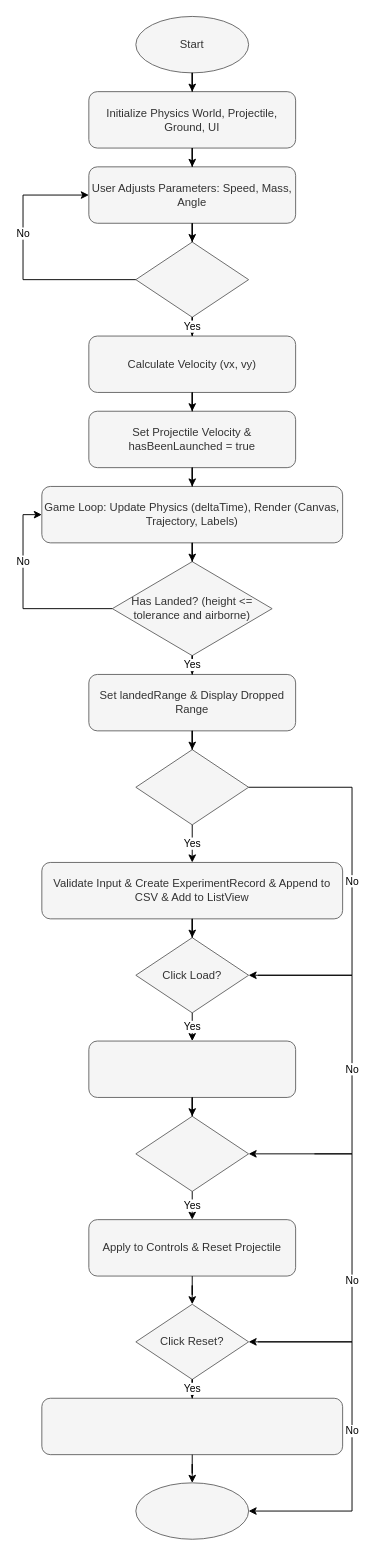
This 376x1556 diagram has some shape labels left out. The box of each missing label's shape, as (x1, y1, x2, y2) in pixels:
Click Launch?: (135, 241, 249, 317)
Click Save? (if landed): (135, 749, 249, 825)
End (or loop back): (135, 1482, 249, 1539)
Read CSV & Parse Lines & Populate ListView: (88, 1040, 296, 1097)
Reset Projectile Position/Velocity & Clear Trajectory: (41, 1397, 343, 1455)
Select Experiment from List?: (135, 1115, 249, 1191)
